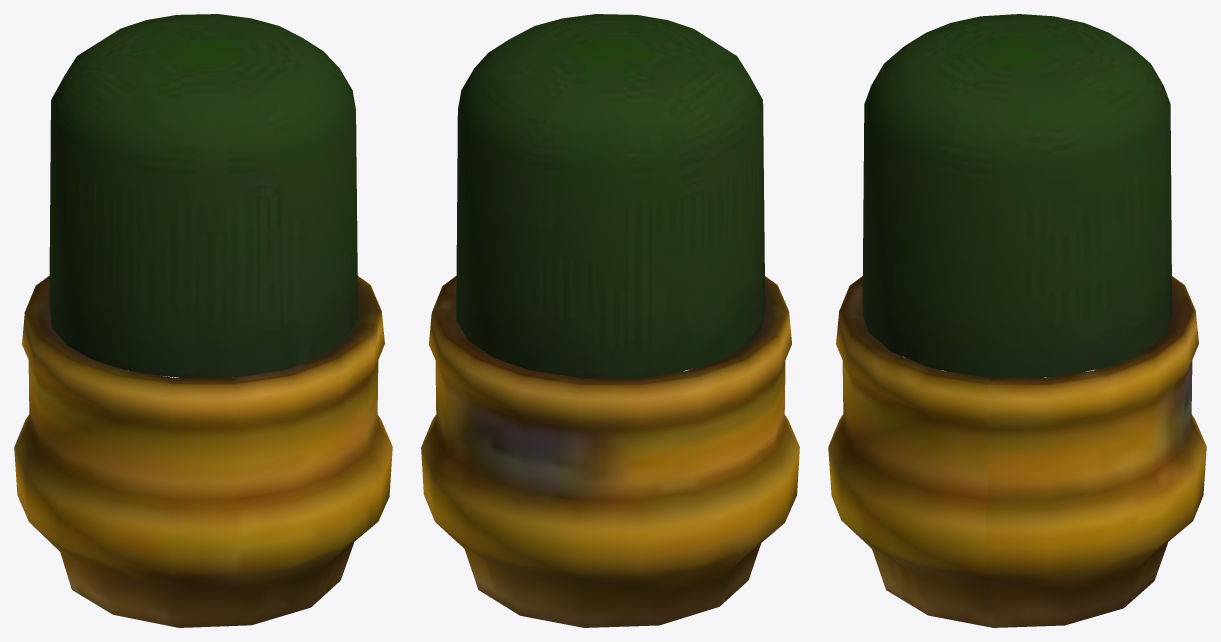
The model's file is plight.siren.green.glb.
The picture shows the model from 3 angles, left to right: view 1: azimuth 30°, elevation 25°; view 2: azimuth 150°, elevation 25°; view 3: azimuth 270°, elevation 25°; orthographic projection.
Parts seen in each view (by area): view 1: plight.siren.green; view 2: plight.siren.green; view 3: plight.siren.green.
Part boxes in pixels (x1,y1,x2,y2): plight.siren.green: [14, 14, 392, 627]; plight.siren.green: [421, 14, 799, 627]; plight.siren.green: [828, 14, 1206, 627].
Bounding box in the file's own units: 0.2078 × 0.3192 × 0.2109.
1 material, 1 textured.
